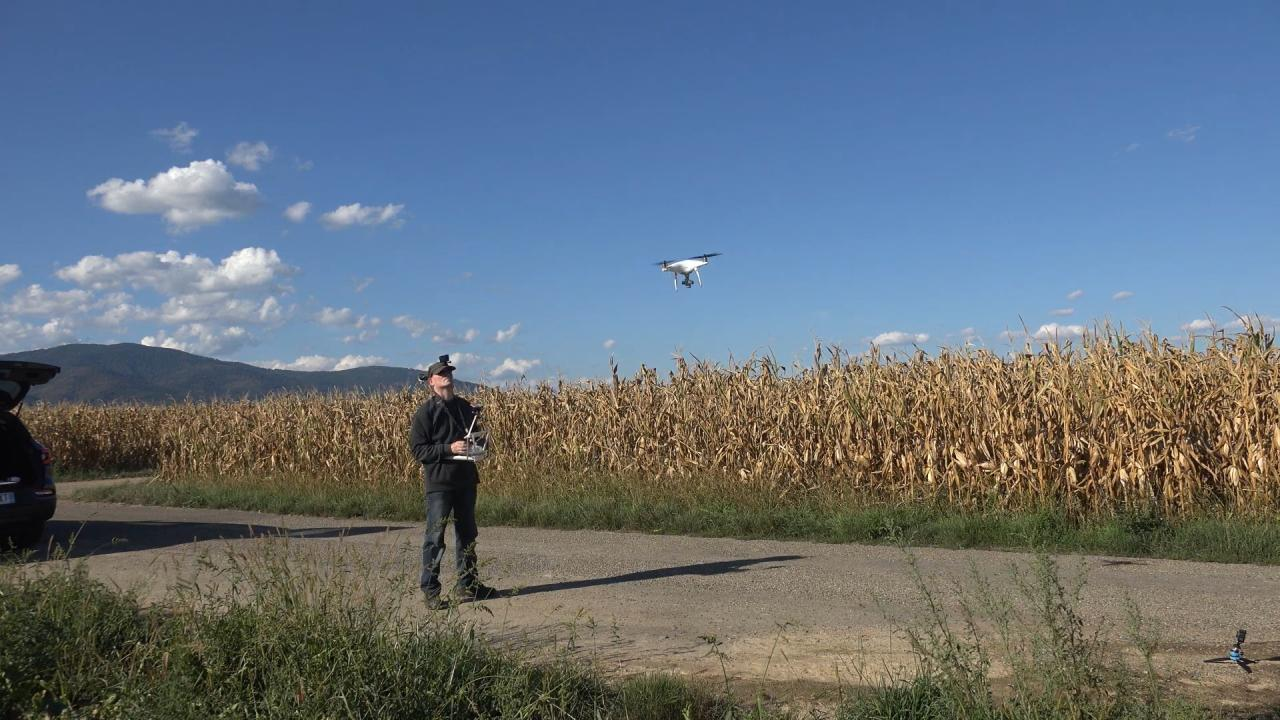Drone: (645, 247, 728, 298)
